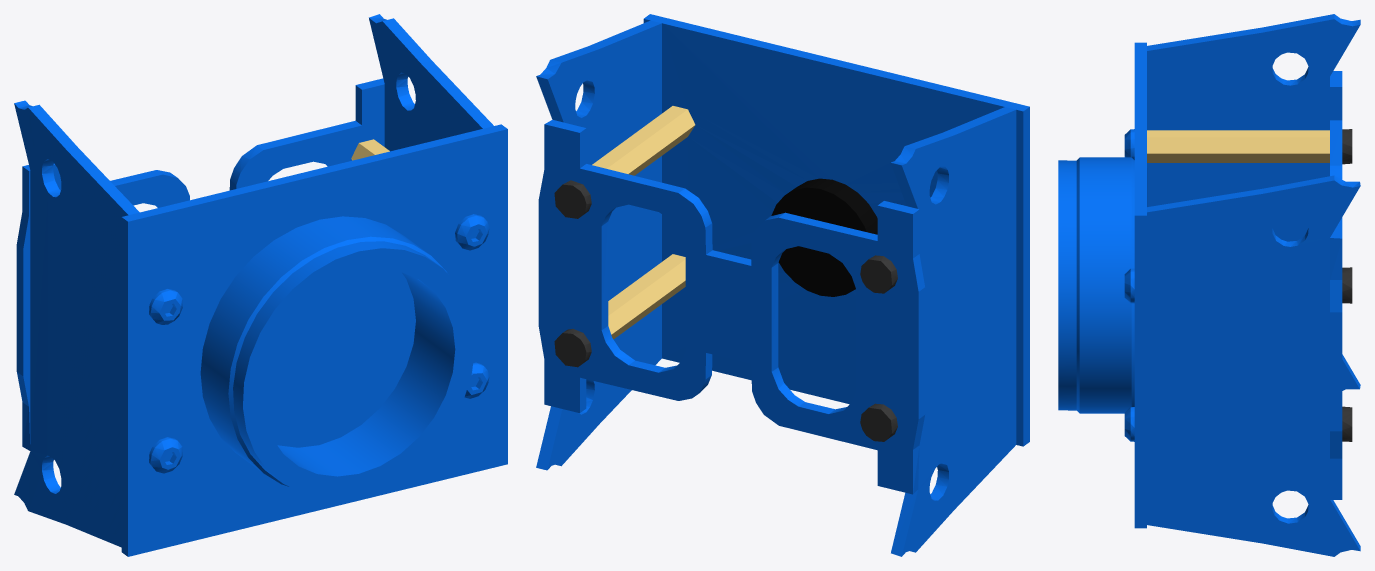
File: gripper_frame_visuals_Mesh.obj
The picture shows the model from 3 angles, left to right: view 1: azimuth 30°, elevation 25°; view 2: azimuth 150°, elevation 25°; view 3: azimuth 270°, elevation 25°; orthographic projection. The views are drawn at different scales.
Visible parts, largest first — view 1: gripper_mount; view 2: gripper_mount; view 3: gripper_mount.
Part boxes in pixels (box(x1,y1,x2,y2)): gripper_mount: box(14, 14, 507, 556); gripper_mount: box(536, 14, 1029, 556); gripper_mount: box(1058, 14, 1360, 556).
Bounding box in the file's own units: 0.067 × 0.068 × 0.0495.
